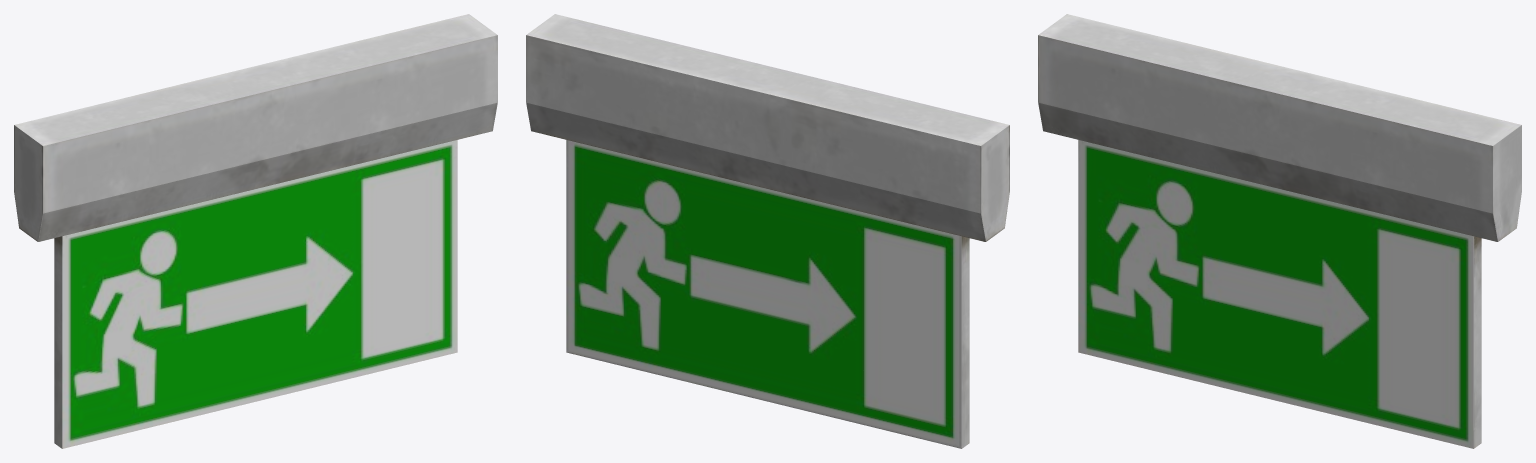
The model's file is hw_Exit_sign.glb.
3 renders of one model, left to right at view 1: azimuth 30°, elevation 25°; view 2: azimuth 150°, elevation 25°; view 3: azimuth 330°, elevation 25°, orthographic.
Parts seen in each view (by area): view 1: Exit_sign; view 2: Exit_sign; view 3: Exit_sign.
Boxes of the visible parts, x1=… form: Exit_sign: x1=14, y1=14, x2=497, y2=448; Exit_sign: x1=526, y1=14, x2=1009, y2=448; Exit_sign: x1=1038, y1=14, x2=1521, y2=448.
Bounding box in the file's own units: 0.5649 × 0.3772 × 0.0621.
1 material, 1 textured.
